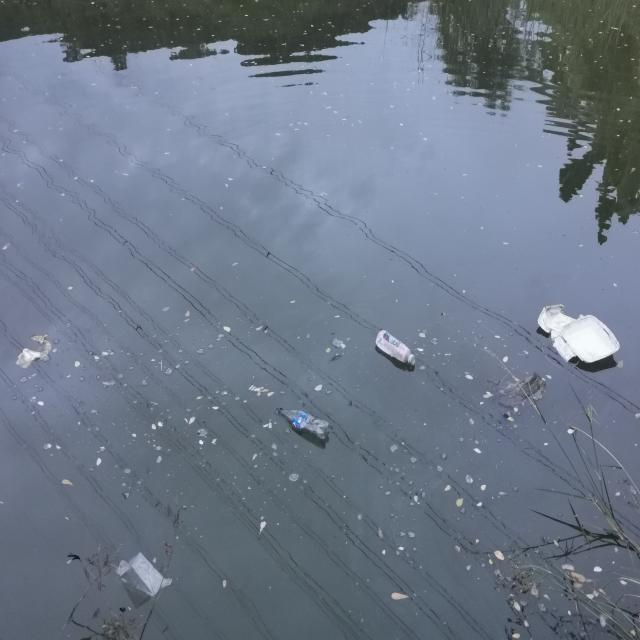foam: (537, 302, 624, 368)
plastic: (275, 399, 332, 442), (375, 328, 415, 370)
plastic bottle: (112, 548, 170, 595)
unknow: (13, 324, 53, 370)
